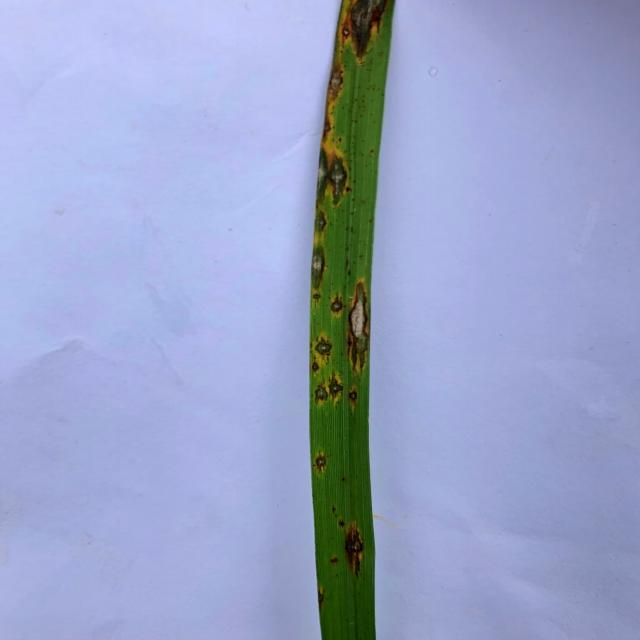leaf blast: (342, 0, 398, 57), (344, 278, 372, 376), (315, 146, 351, 209), (321, 64, 346, 145), (341, 518, 368, 579), (324, 371, 346, 408), (311, 245, 329, 290), (311, 334, 338, 362), (309, 380, 332, 408), (345, 380, 361, 414), (326, 293, 346, 317), (316, 204, 330, 238), (314, 450, 328, 479)
